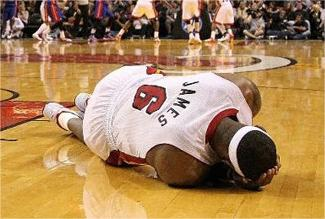down: (28, 50, 288, 202)
